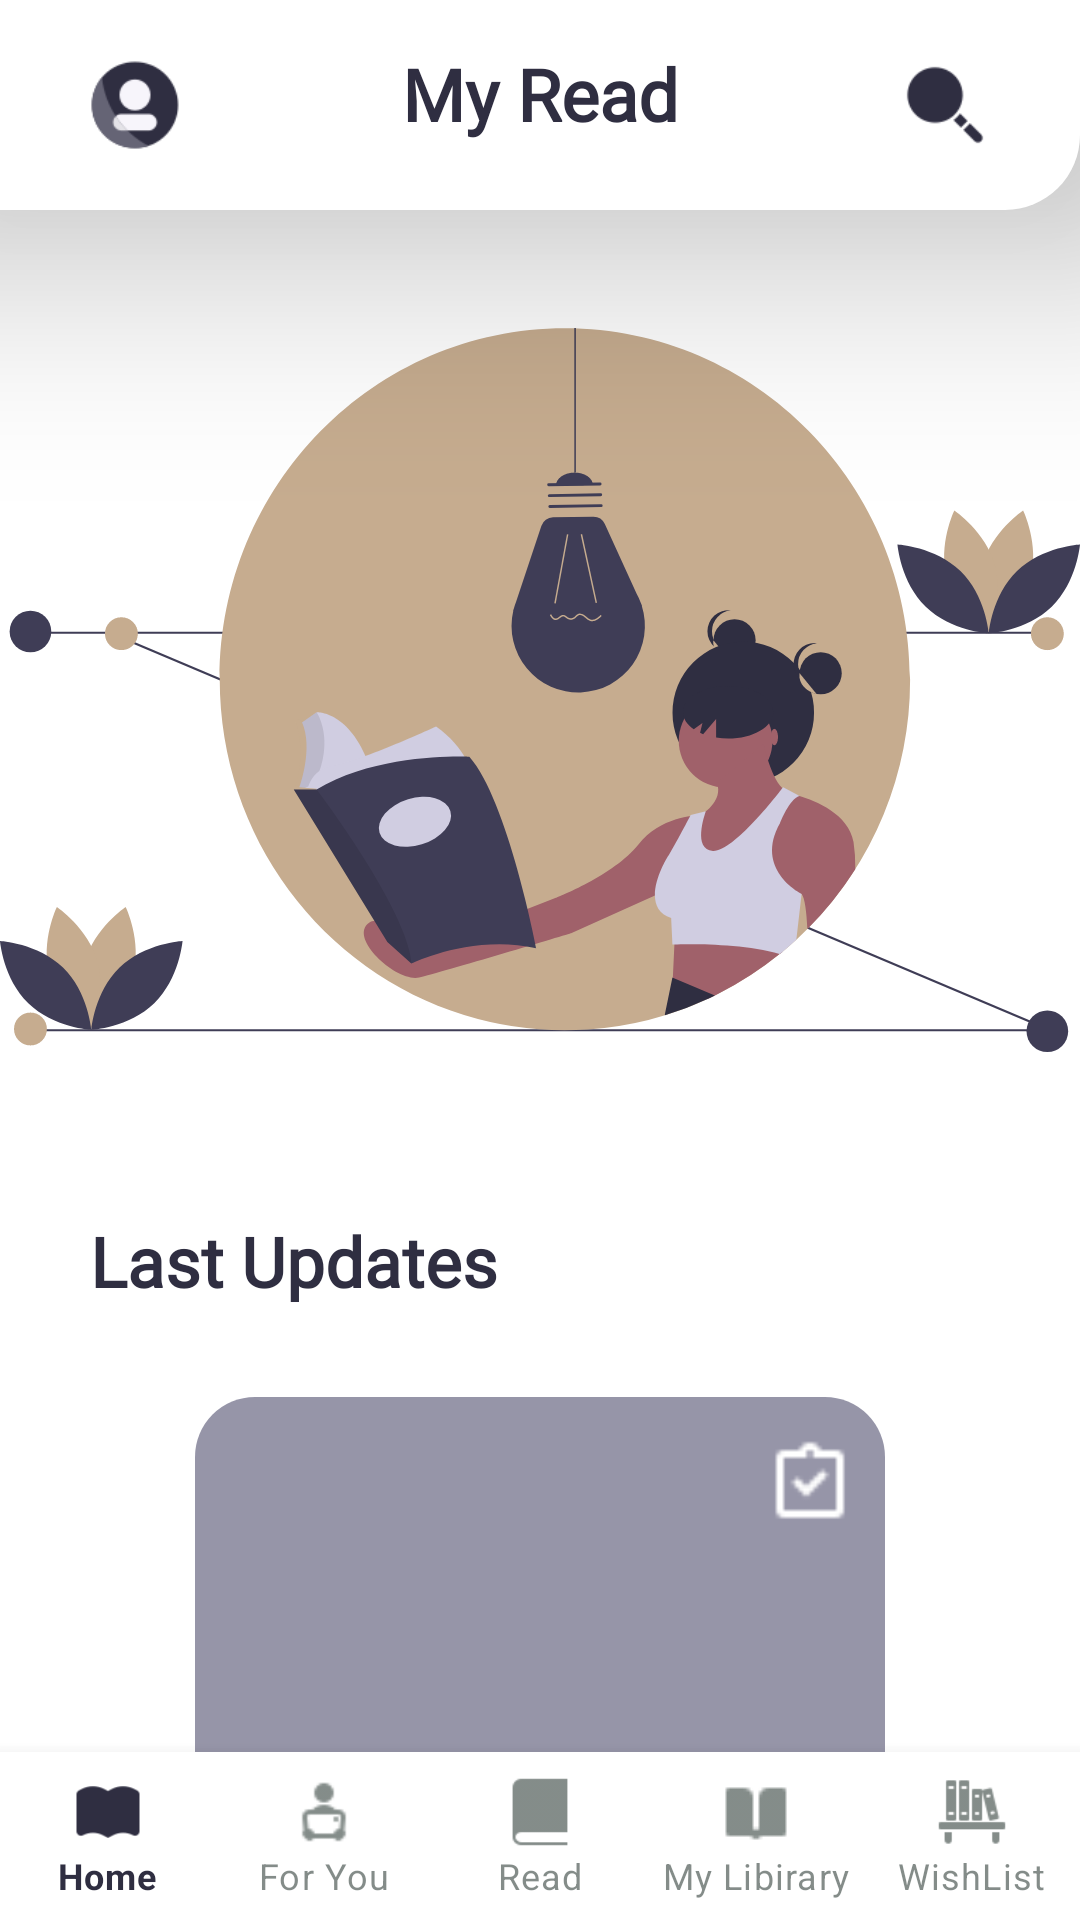

Screen size 1080 x 1920. Icon name, then its center in pixels as [x,y]:
done: [810,1480]
profile: [135,105]
search: [945,105]
